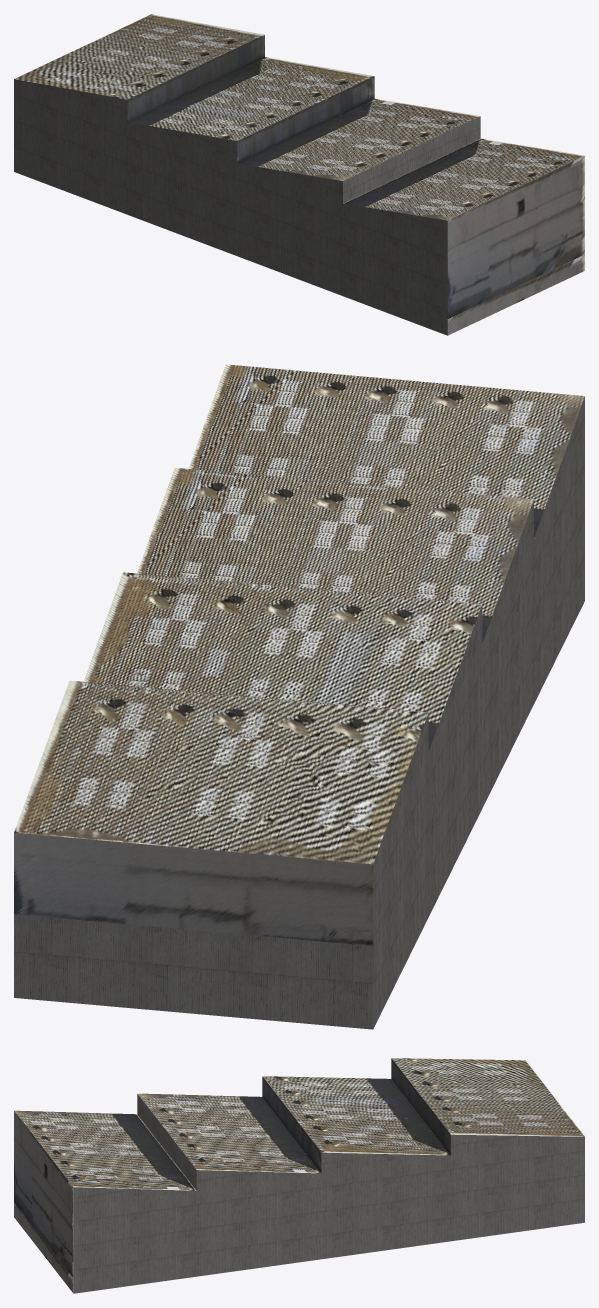
File: bigHangarBehindRamp.gltf
3 views of the same model, one above another, from view 1: azimuth 30°, elevation 25°; view 2: azimuth 150°, elevation 25°; view 3: azimuth 270°, elevation 25° (orthographic). The views are drawn at different scales.
Parts seen in each view (by area): view 1: node4, node2, node7, node9, node1, node6, node8; view 2: node2, node4, node9, node1, node7; view 3: node4, node2, node9, node1, node7, node6, node8.
Part boxes in pixels (x1,y1,x2,y2): node4: (14, 79, 480, 335); node2: (237, 98, 584, 220); node7: (447, 156, 584, 335); node9: (14, 14, 264, 99); node1: (128, 57, 374, 140); node6: (127, 35, 264, 121); node8: (237, 76, 374, 163); node2: (137, 364, 584, 642); node4: (14, 397, 584, 1029); node9: (14, 680, 428, 864); node1: (83, 572, 481, 751); node7: (14, 832, 373, 945); node4: (73, 1094, 584, 1293); node2: (14, 1093, 321, 1190); node9: (392, 1058, 584, 1136); node1: (262, 1076, 450, 1155); node7: (14, 1111, 73, 1293); node6: (391, 1058, 450, 1154); node8: (262, 1077, 321, 1172).
Bounding box in the file's own units: 39.4 × 13.27 × 64.41.
